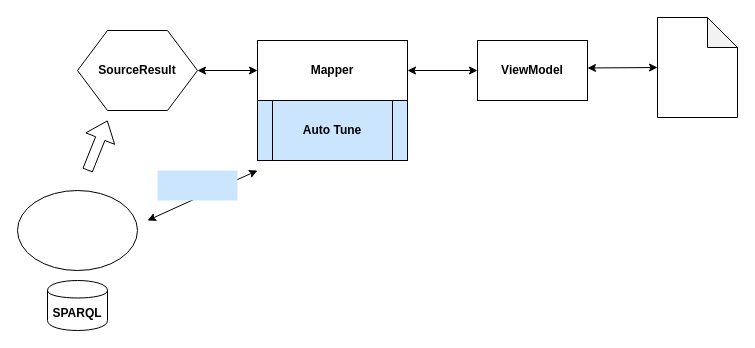
This 755x348 diagram has some shape labels left out. Each missing label, with the box of its shape:
Queries: (157, 170, 237, 200)
SourceInterface: (16, 190, 138, 270)
View+: (656, 16, 738, 118)
